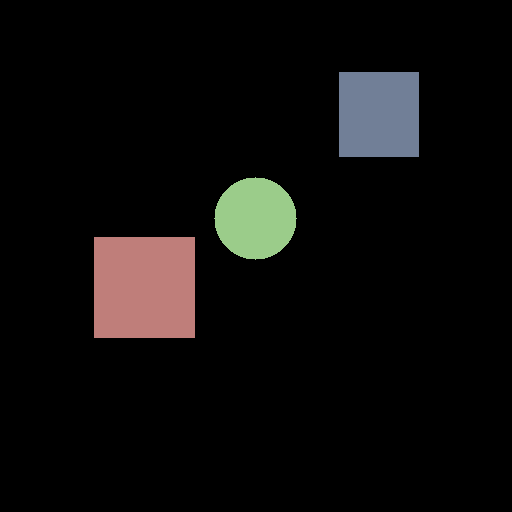circle: (214, 177, 296, 259)
square: (94, 237, 194, 337), (339, 72, 418, 156)
